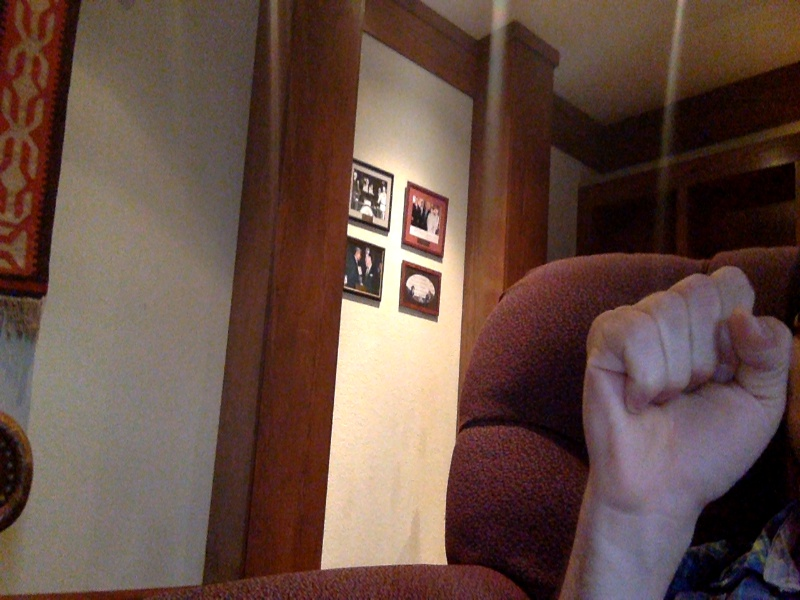0-hand: (586, 265, 790, 529)
